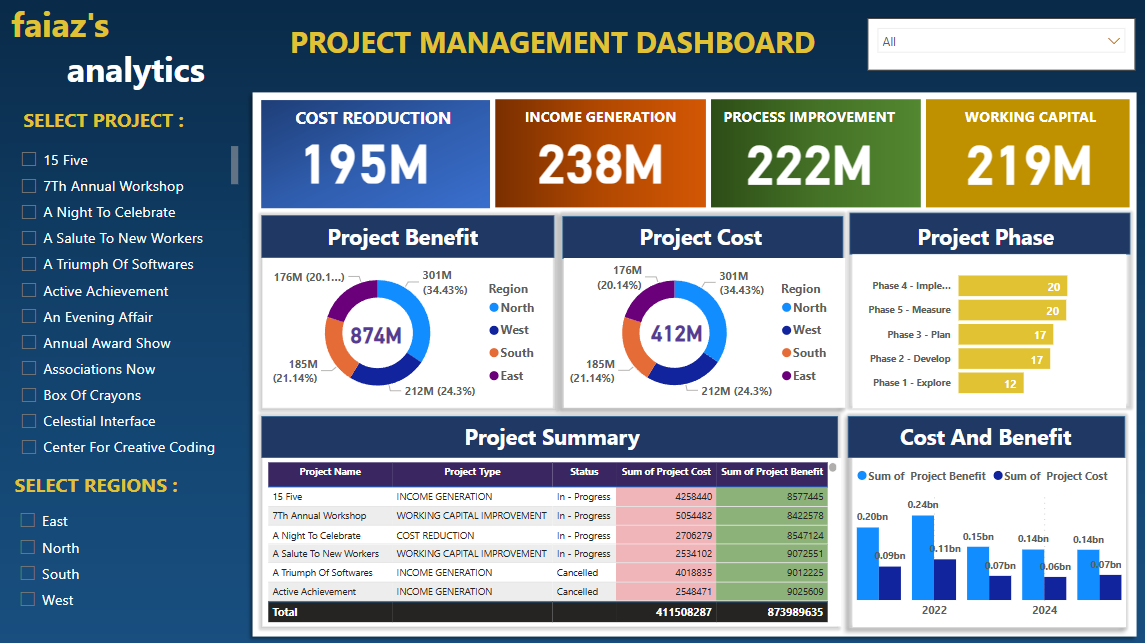

The page's visual inventory and layout, read from the dashboard file:
{"tool":"powerbi","page":{"name":"Page 1","canvas":[1280,720],"ordinal":0},"visuals":[{"type":"donutChart","fields":{"Y":["Project Management Dataset. Project Benefit "],"Category":["Project Management Dataset.Region"]},"box":[297.2,288.9,322.2,166.7],"z":0},{"type":"slicer","fields":{"Values":["Project Management Dataset.Project Name"]},"box":[16.7,159.7,258.3,361.1],"z":1000},{"type":"slicer","fields":{"Values":["Project Management Dataset.Region"]},"box":[15.3,561.1,258.3,147.2],"z":2000},{"type":"slicer","fields":{"Values":["Project Management Dataset.Department"]},"box":[969.4,22.2,297.2,58.3],"z":3000},{"type":"textbox","box":[13.9,2.8,256.9,112.5],"z":4000},{"type":"textbox","box":[16.7,520.8,256.9,40.3],"z":5000},{"type":"textbox","box":[286.1,22.2,666.7,68.1],"z":6000},{"type":"textbox","box":[26.7,115.6,256.9,54.2],"z":7000},{"type":"textbox","box":[297.2,115.3,245.8,44.4],"z":8000},{"type":"textbox","box":[556.9,115.3,231.9,44.4],"z":9000},{"type":"textbox","box":[788.9,115.3,231.9,44.4],"z":10000},{"type":"textbox","box":[1034.7,115.3,231.9,44.4],"z":11000},{"type":"card","fields":{"Values":["Project Management Dataset. Project Benefit "]},"box":[319.4,143.1,181.9,68.1],"z":12000},{"type":"card","fields":{"Values":["Project Management Dataset. Project Benefit "]},"box":[581.9,143.1,181.9,68.1],"z":13000},{"type":"card","fields":{"Values":["Project Management Dataset. Project Benefit "]},"box":[813.9,144.4,181.9,68.1],"z":14000},{"type":"card","fields":{"Values":["Project Management Dataset. Project Benefit "]},"box":[1058.3,144.4,181.9,68.1],"z":15000},{"type":"card","fields":{"Values":["Project Management Dataset. Project Benefit "]},"box":[388.9,344.4,69.4,59.7],"z":16000},{"type":"textbox","box":[286.1,244.4,333.3,44.4],"z":17000},{"type":"donutChart","fields":{"Y":["Project Management Dataset. Project Benefit "],"Category":["Project Management Dataset.Region"]},"box":[631.9,288.9,312.5,166.7],"z":18000},{"type":"card","fields":{"Values":["Project Management Dataset. Project Cost "]},"box":[711.1,340.3,93.1,63.9],"z":19000},{"type":"textbox","box":[627.8,244.4,312.5,44.4],"z":20000},{"type":"textbox","box":[944.4,244.4,312.5,44.4],"z":21000},{"type":"barChart","fields":{"Category":["Project Management Dataset.Phase"],"Y":["Project Management Dataset.Completion%"]},"box":[952.8,284.7,304.2,170.8],"z":22000},{"type":"tableEx","fields":{"Values":["Project Management Dataset.Project Name","Project Management Dataset.Project Type","Project Management Dataset.Status","Project Management Dataset. Project Cost ","Project Management Dataset. Project Benefit "]},"box":[297.2,511.1,643.1,187.5],"z":23000},{"type":"textbox","box":[297.2,466.7,643.1,44.4],"z":23001},{"type":"clusteredColumnChart","fields":{"Y":["Project Management Dataset. Project Benefit ","Project Management Dataset. Project Cost "],"Category":["Project Management Dataset.Year"]},"box":[953,511,304,188],"z":23002},{"type":"textbox","box":[944.4,466.7,312.5,43.1],"z":23003}]}

Visuals, with their boxes in screenshot pixels (x1, y1, x2, y2), scaled from the page's 1280x720 canvas onto the 1145x643 screenshot:
donutChart - Project Management Dataset. Project Benefit  x Project Management Dataset.Region: (left=266, top=258, right=554, bottom=407)
slicer - Project Management Dataset.Project Name: (left=15, top=143, right=246, bottom=465)
slicer - Project Management Dataset.Region: (left=14, top=501, right=245, bottom=633)
slicer - Project Management Dataset.Department: (left=867, top=20, right=1133, bottom=72)
textbox: (left=12, top=3, right=242, bottom=103)
textbox: (left=15, top=465, right=245, bottom=501)
textbox: (left=256, top=20, right=852, bottom=81)
textbox: (left=24, top=103, right=254, bottom=152)
textbox: (left=266, top=103, right=486, bottom=143)
textbox: (left=498, top=103, right=706, bottom=143)
textbox: (left=706, top=103, right=913, bottom=143)
textbox: (left=926, top=103, right=1133, bottom=143)
card - Project Management Dataset. Project Benefit : (left=286, top=128, right=448, bottom=189)
card - Project Management Dataset. Project Benefit : (left=521, top=128, right=683, bottom=189)
card - Project Management Dataset. Project Benefit : (left=728, top=129, right=891, bottom=190)
card - Project Management Dataset. Project Benefit : (left=947, top=129, right=1109, bottom=190)
card - Project Management Dataset. Project Benefit : (left=348, top=308, right=410, bottom=361)
textbox: (left=256, top=218, right=554, bottom=258)
donutChart - Project Management Dataset. Project Benefit  x Project Management Dataset.Region: (left=565, top=258, right=845, bottom=407)
card - Project Management Dataset. Project Cost : (left=636, top=304, right=719, bottom=361)
textbox: (left=562, top=218, right=841, bottom=258)
textbox: (left=845, top=218, right=1124, bottom=258)
barChart - Project Management Dataset.Phase x Project Management Dataset.Completion%: (left=852, top=254, right=1124, bottom=407)
tableEx - Project Management Dataset.Project Name x Project Management Dataset.Project Type: (left=266, top=456, right=841, bottom=624)
textbox: (left=266, top=417, right=841, bottom=456)
clusteredColumnChart - Project Management Dataset. Project Benefit  x Project Management Dataset. Project Cost : (left=852, top=456, right=1124, bottom=624)
textbox: (left=845, top=417, right=1124, bottom=455)
